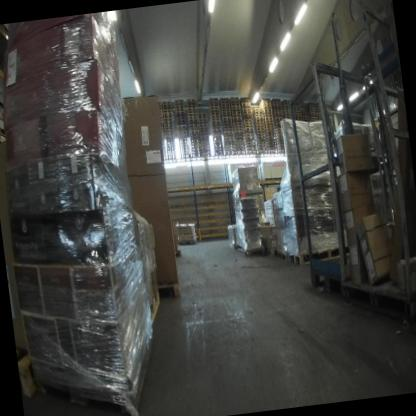pallet: (30, 327, 161, 416), (146, 287, 162, 328), (157, 281, 182, 301), (243, 246, 266, 257), (177, 237, 197, 247), (276, 249, 289, 262), (258, 99, 271, 108), (235, 243, 245, 253), (258, 98, 270, 105), (174, 248, 182, 258), (264, 121, 274, 128), (208, 99, 219, 105), (221, 115, 232, 121), (264, 127, 275, 133), (272, 110, 283, 116), (272, 108, 283, 114), (272, 105, 283, 111), (271, 103, 282, 109), (271, 100, 282, 106), (265, 134, 275, 140), (264, 124, 274, 130), (263, 116, 273, 122), (262, 110, 272, 116), (261, 105, 271, 111), (261, 102, 271, 108), (273, 113, 283, 119), (176, 124, 187, 129), (189, 132, 200, 137), (188, 123, 199, 128), (187, 118, 198, 123), (187, 115, 198, 120), (186, 112, 197, 117), (186, 109, 197, 114), (186, 106, 197, 111), (211, 128, 222, 133), (210, 122, 221, 127), (208, 102, 219, 107), (222, 127, 233, 132), (222, 124, 233, 129), (220, 107, 231, 112), (232, 121, 243, 126), (231, 113, 242, 118), (231, 110, 242, 115), (229, 99, 240, 104), (244, 135, 255, 140), (243, 129, 254, 134), (243, 126, 254, 131), (246, 149, 257, 154), (245, 146, 256, 151), (273, 116, 284, 121), (163, 120, 173, 125), (163, 117, 173, 122), (163, 114, 173, 119), (161, 100, 171, 105), (177, 127, 187, 132), (176, 121, 186, 126), (176, 118, 186, 123), (175, 107, 185, 112), (174, 104, 184, 109), (189, 129, 199, 134), (189, 126, 199, 131), (186, 103, 196, 108), (199, 131, 209, 136), (198, 123, 208, 128), (211, 125, 221, 130), (210, 117, 220, 122), (209, 111, 219, 116), (209, 108, 219, 113), (209, 105, 219, 110), (208, 97, 218, 102), (222, 121, 232, 126), (222, 119, 232, 124), (221, 113, 231, 118), (221, 110, 231, 115), (220, 102, 230, 107), (219, 97, 229, 102), (233, 126, 243, 131), (233, 124, 243, 129), (232, 116, 242, 121), (230, 102, 240, 107), (229, 96, 239, 101), (244, 132, 254, 137), (243, 123, 253, 128), (242, 115, 252, 120), (241, 107, 251, 112), (240, 101, 250, 106), (257, 140, 267, 145), (266, 138, 276, 143), (265, 132, 275, 137), (265, 130, 275, 135), (263, 119, 273, 124), (263, 114, 273, 119), (262, 108, 272, 113), (270, 98, 280, 103), (239, 96, 249, 101), (176, 115, 185, 120), (199, 128, 208, 133), (199, 125, 208, 130), (198, 120, 207, 125), (198, 117, 207, 122), (197, 111, 206, 116), (257, 137, 266, 142), (163, 126, 174, 130), (161, 103, 172, 107), (210, 120, 221, 124), (219, 100, 230, 104), (230, 105, 241, 109), (240, 105, 251, 109), (245, 144, 256, 148), (244, 142, 255, 146), (244, 139, 255, 143), (163, 123, 173, 127), (162, 109, 172, 113), (162, 106, 172, 110), (175, 113, 185, 117), (175, 110, 185, 114), (174, 102, 184, 106), (174, 99, 184, 103), (188, 121, 198, 125), (186, 101, 196, 105), (185, 98, 195, 102), (210, 114, 220, 118), (220, 105, 230, 109), (232, 119, 242, 123), (231, 108, 241, 112), (243, 121, 253, 125), (242, 118, 252, 122), (242, 113, 252, 117), (241, 110, 251, 114), (256, 129, 264, 134), (255, 121, 263, 126), (255, 118, 263, 123), (254, 115, 262, 120), (254, 113, 262, 118), (254, 110, 262, 115), (253, 107, 261, 112), (274, 119, 282, 124), (283, 112, 291, 117), (302, 117, 310, 122), (302, 114, 310, 119), (310, 115, 318, 120), (309, 108, 317, 113), (240, 99, 250, 103), (198, 115, 207, 119), (277, 146, 284, 151), (277, 143, 284, 148), (276, 141, 283, 146), (276, 138, 283, 143), (276, 136, 283, 141), (275, 134, 282, 139), (275, 130, 282, 135), (274, 125, 281, 130), (257, 135, 265, 139), (256, 132, 264, 136), (283, 115, 291, 119), (283, 110, 291, 114), (282, 107, 290, 111), (282, 104, 290, 108), (281, 99, 289, 103), (294, 118, 302, 122), (294, 115, 302, 119), (293, 112, 301, 116), (293, 110, 301, 114), (292, 107, 300, 111), (292, 104, 300, 108), (256, 127, 263, 131), (256, 124, 263, 128), (275, 133, 282, 137), (274, 122, 281, 126), (282, 102, 289, 106), (311, 118, 318, 122), (310, 111, 317, 115), (309, 106, 316, 110), (163, 112, 172, 115), (275, 128, 281, 132), (310, 114, 317, 117), (309, 104, 316, 107), (159, 115, 163, 119), (160, 121, 163, 125), (159, 112, 162, 116), (159, 109, 162, 113), (158, 101, 161, 105), (160, 124, 163, 127), (160, 118, 163, 121), (159, 107, 162, 110), (159, 104, 162, 107), (161, 127, 164, 130), (318, 117, 321, 120), (317, 110, 320, 113), (318, 114, 320, 118), (317, 107, 319, 111), (318, 112, 320, 115), (317, 105, 319, 108), (317, 103, 319, 106)
